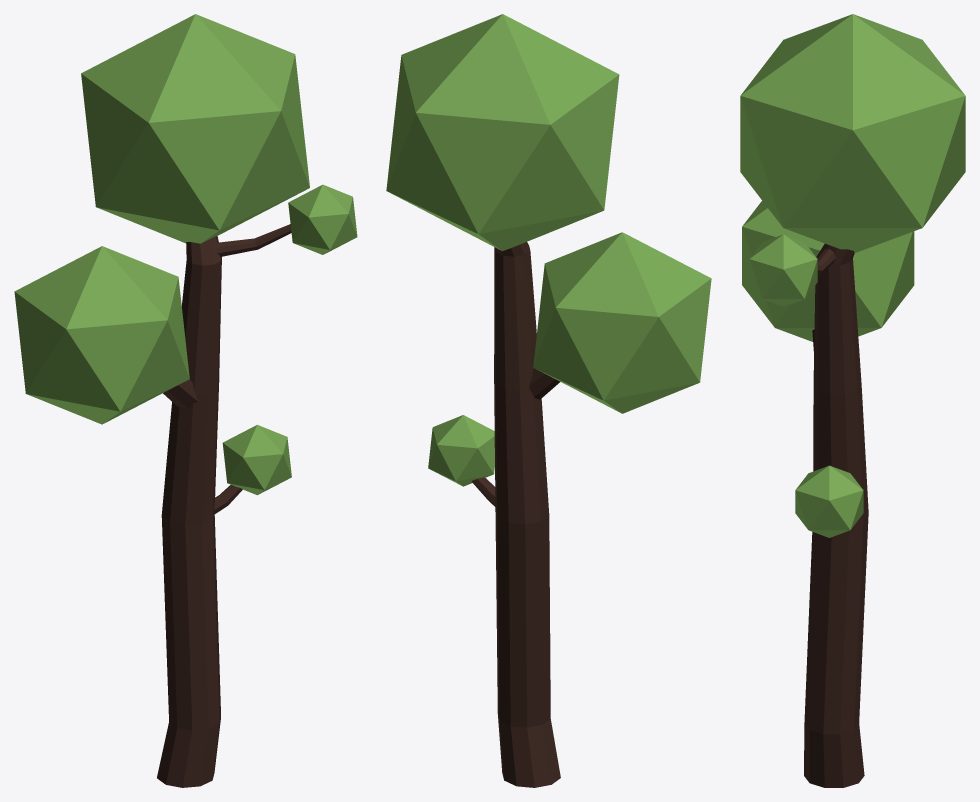
Rendered from Tree_Green_Dark_vc.fbx.
3 views of the same model, side by side, from view 1: azimuth 30°, elevation 25°; view 2: azimuth 150°, elevation 25°; view 3: azimuth 270°, elevation 25° (orthographic). The views are drawn at different scales.
Visible parts, largest first — view 1: Tree_Green_Dark_vc; view 2: Tree_Green_Dark_vc; view 3: Tree_Green_Dark_vc.
Boxes of the visible parts, x1=… form: Tree_Green_Dark_vc: x1=14, y1=14, x2=357, y2=787; Tree_Green_Dark_vc: x1=386, y1=14, x2=711, y2=787; Tree_Green_Dark_vc: x1=740, y1=14, x2=965, y2=787.
Bounding box in the file's own units: 590 × 1383 × 366.
